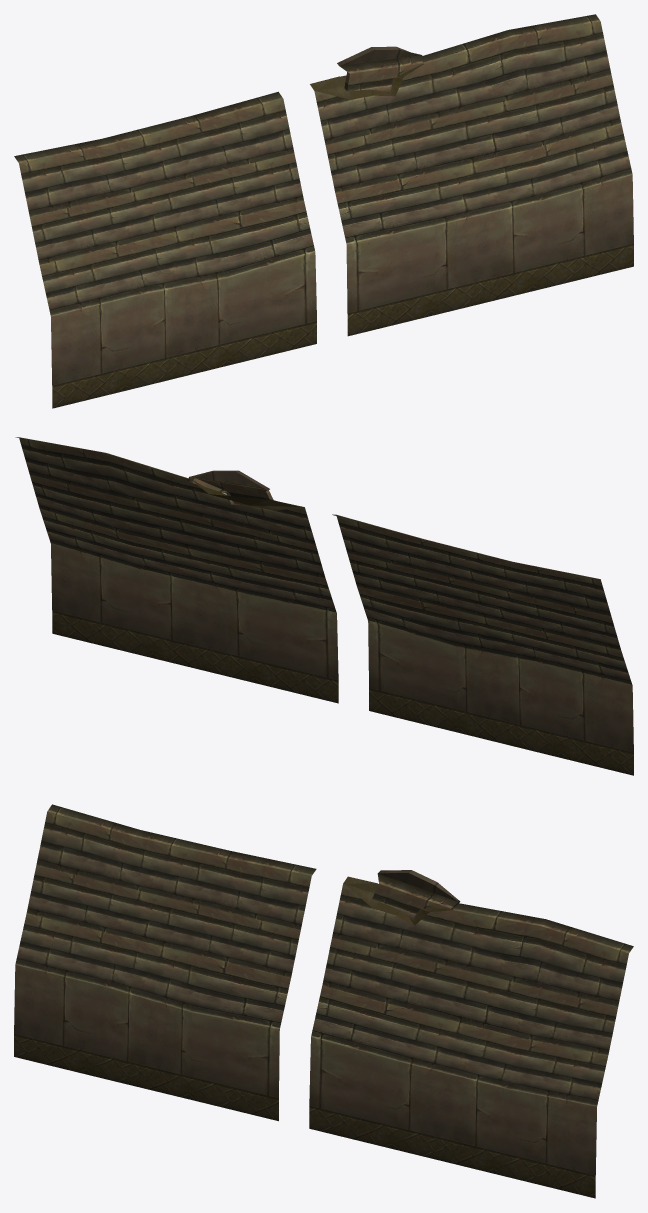
The model's file is zhanchang_fuben_259_louti_01_02.obj.
3 renders of one model, top to bottom at view 1: azimuth 30°, elevation 25°; view 2: azimuth 150°, elevation 25°; view 3: azimuth 330°, elevation 25°, orthographic.
Visible parts, largest first — view 1: zhanchang_fuben_259_louti_01_02; view 2: zhanchang_fuben_259_louti_01_02; view 3: zhanchang_fuben_259_louti_01_02.
Part boxes in pixels (x1,y1,x2,y2): zhanchang_fuben_259_louti_01_02: [14, 14, 633, 408]; zhanchang_fuben_259_louti_01_02: [15, 437, 633, 775]; zhanchang_fuben_259_louti_01_02: [14, 804, 633, 1198].
Size of the model in its own units: 1255 by 506 by 155.
